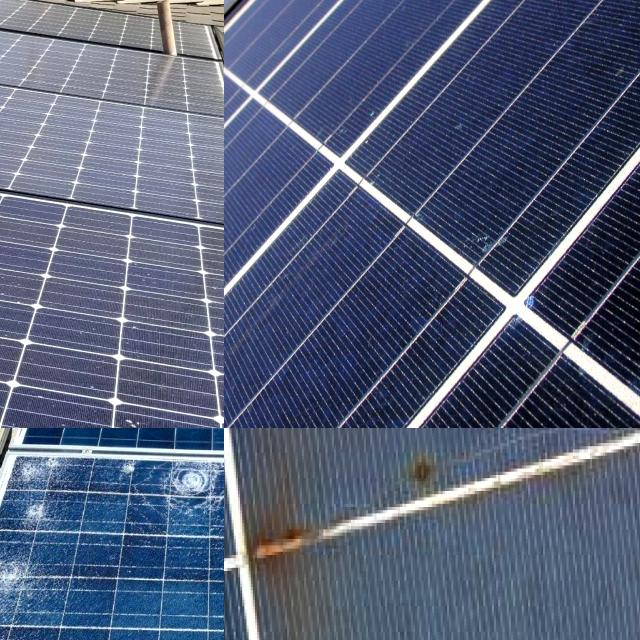crack: (224, 0, 640, 428)
hotspot: (11, 453, 80, 531), (161, 467, 224, 518), (0, 542, 27, 621), (108, 449, 146, 492), (0, 521, 20, 589)
shadow: (239, 432, 469, 594)
